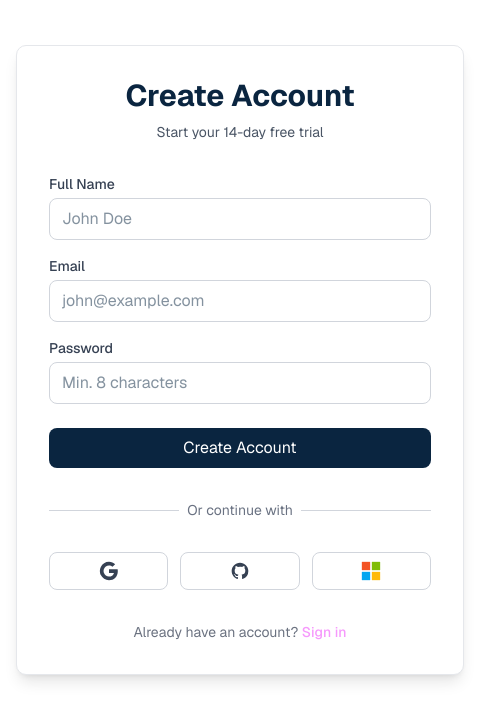
RegisterPage Component › should display error message on failed registration
Type "Test User" into the field labelled "Full Name". click: (240, 219)
box: x1=49 y1=198 x2=431 y2=240
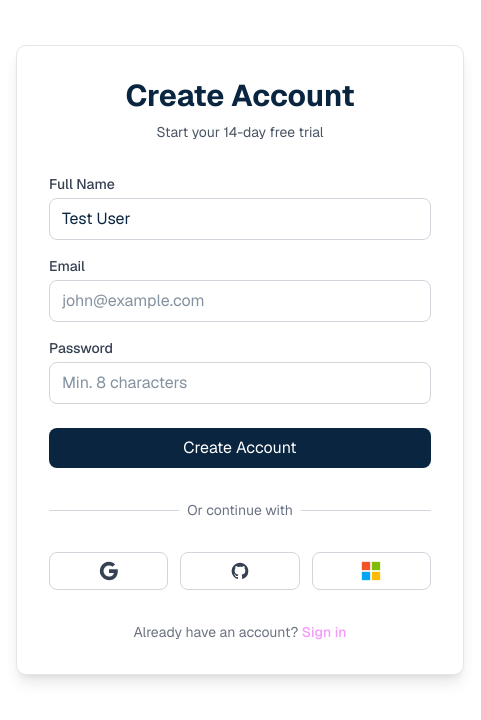
Type "existing@example.com" into the field labelled "Email". click: (240, 301)
box: x1=49 y1=280 x2=431 y2=322
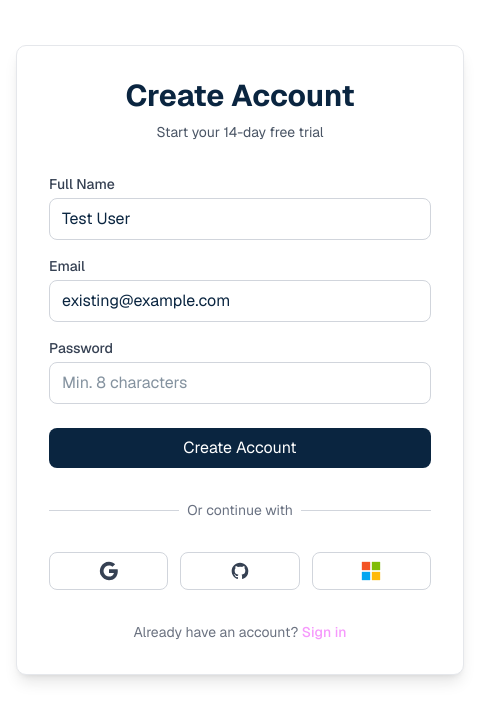
Type "password123" into the password field labelled "Password". click: (240, 383)
box: x1=49 y1=362 x2=431 y2=404
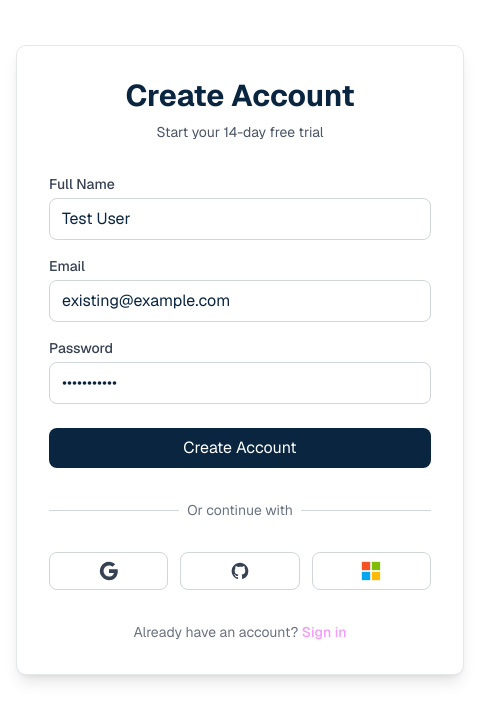
Click the button "Create Account". click: (240, 448)
box: x1=49 y1=428 x2=431 y2=468
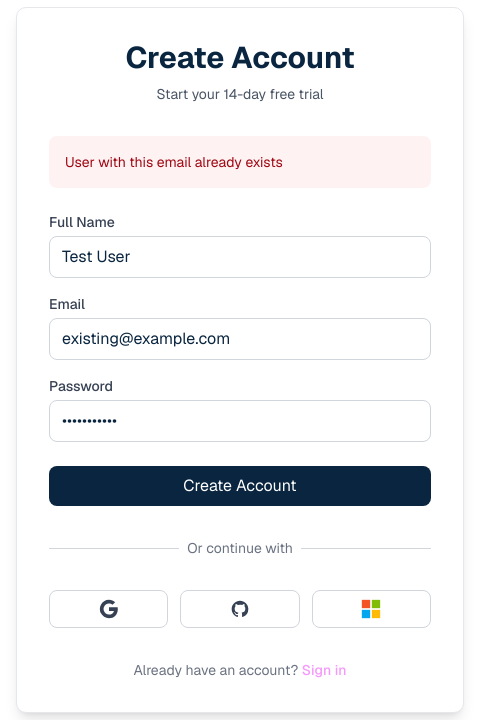
Now the text "User with this email already exists" is shown, box x1=49 y1=136 x2=431 y2=188
